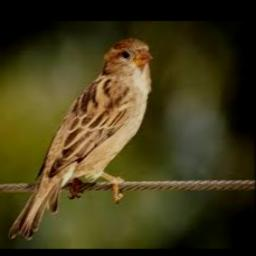Sparrow: (8, 37, 152, 240)
